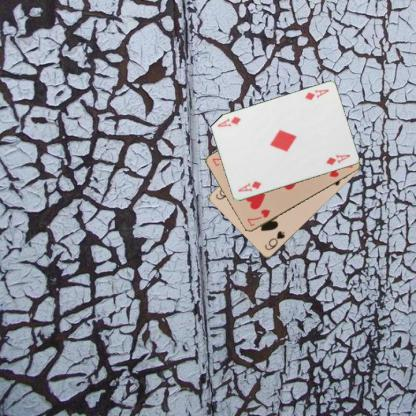6s: (262, 228, 286, 252)
7h: (244, 206, 272, 228)
Ad: (302, 86, 330, 102), (235, 179, 262, 193)
